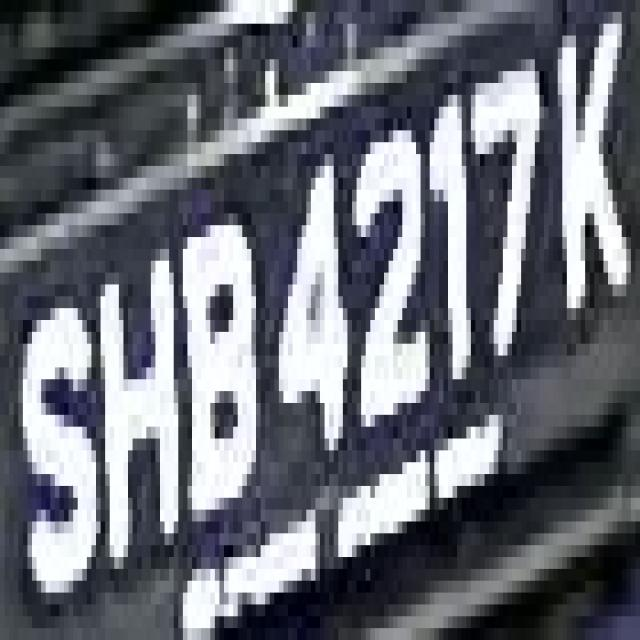1: (425, 47, 485, 474)
2: (338, 107, 439, 462)
4: (274, 178, 352, 486)
7: (462, 59, 548, 427)
B: (174, 166, 265, 569)
H: (91, 260, 192, 592)
K: (539, 12, 631, 344)
S: (18, 249, 105, 569)
